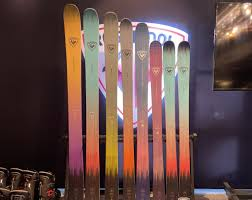skis: (61, 3, 102, 200), (102, 11, 135, 200), (133, 23, 165, 200), (161, 42, 193, 200)
